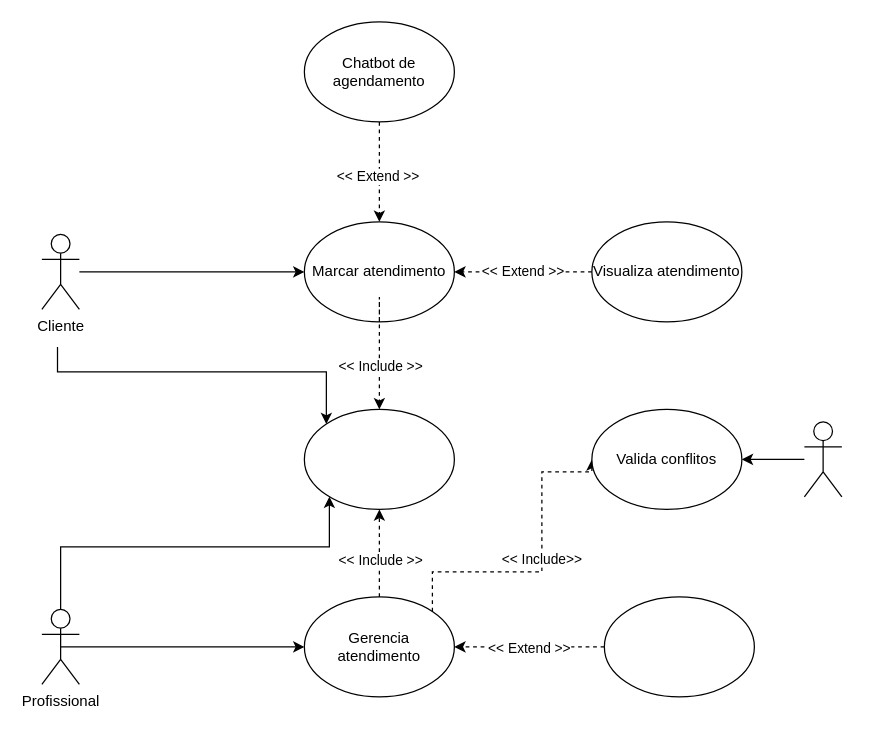
Some shapes in this 871 by 751 pixel diagram are drawn without their labels. The centre of each missing label's shape, as x and y in pixels:
Autentica: (378,458)
Imprimir relatório: (678,646)
Sistema: (822,459)
